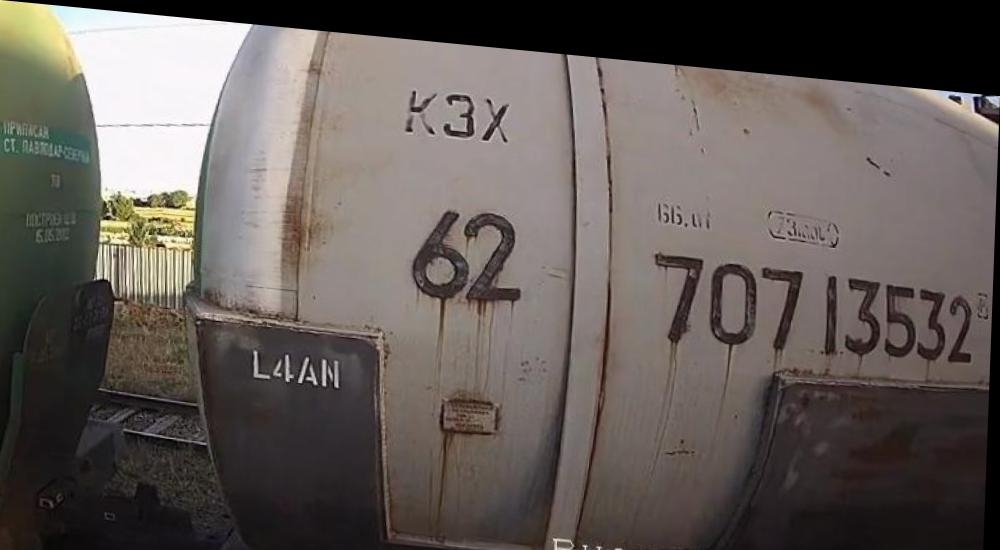Wagon-number: (647, 233, 980, 354)
